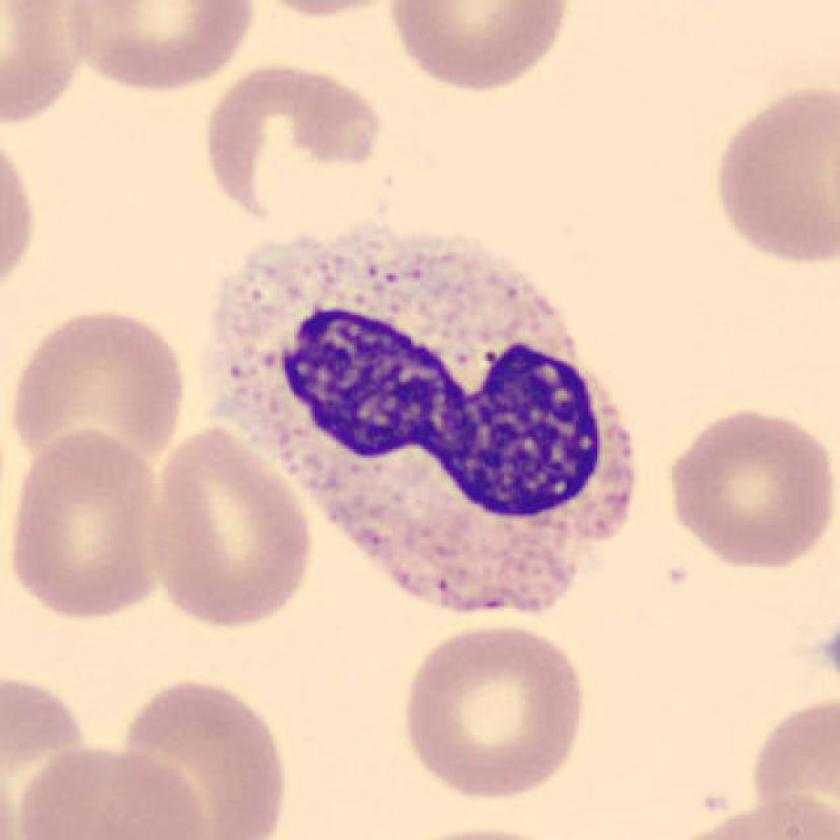neutrophil: (216, 220, 638, 617)
